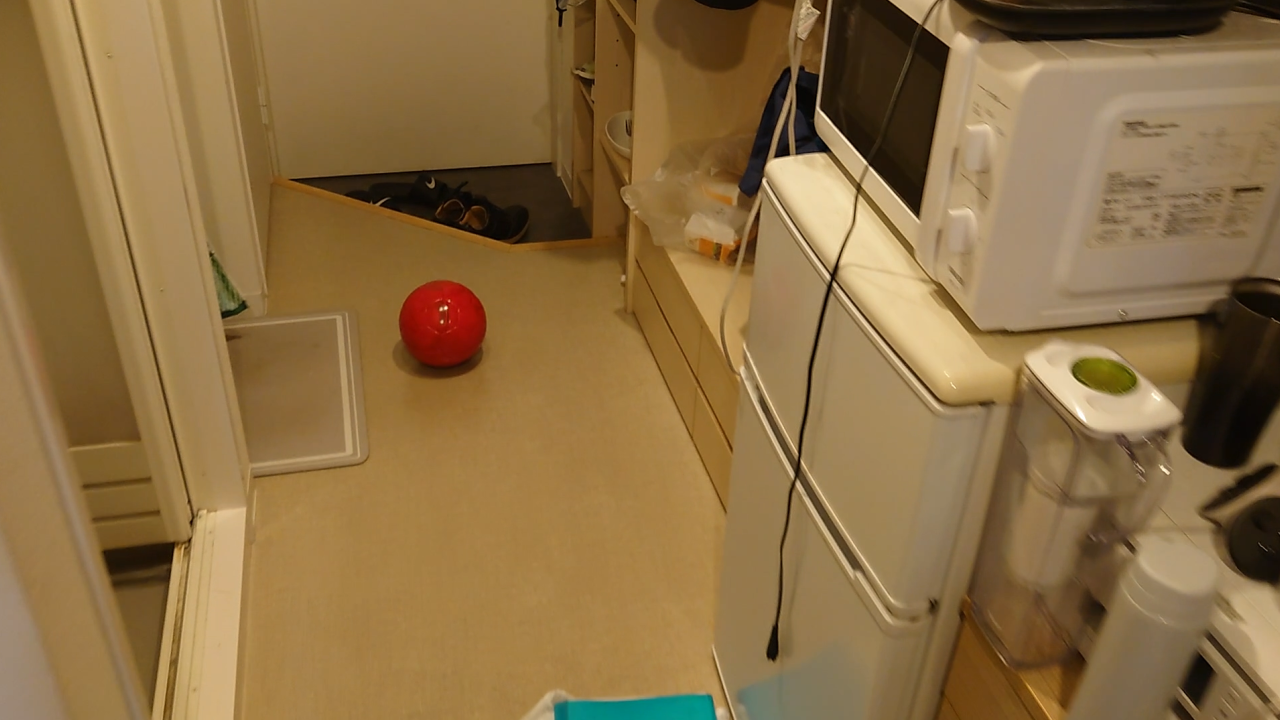red: (397, 280, 487, 370)
